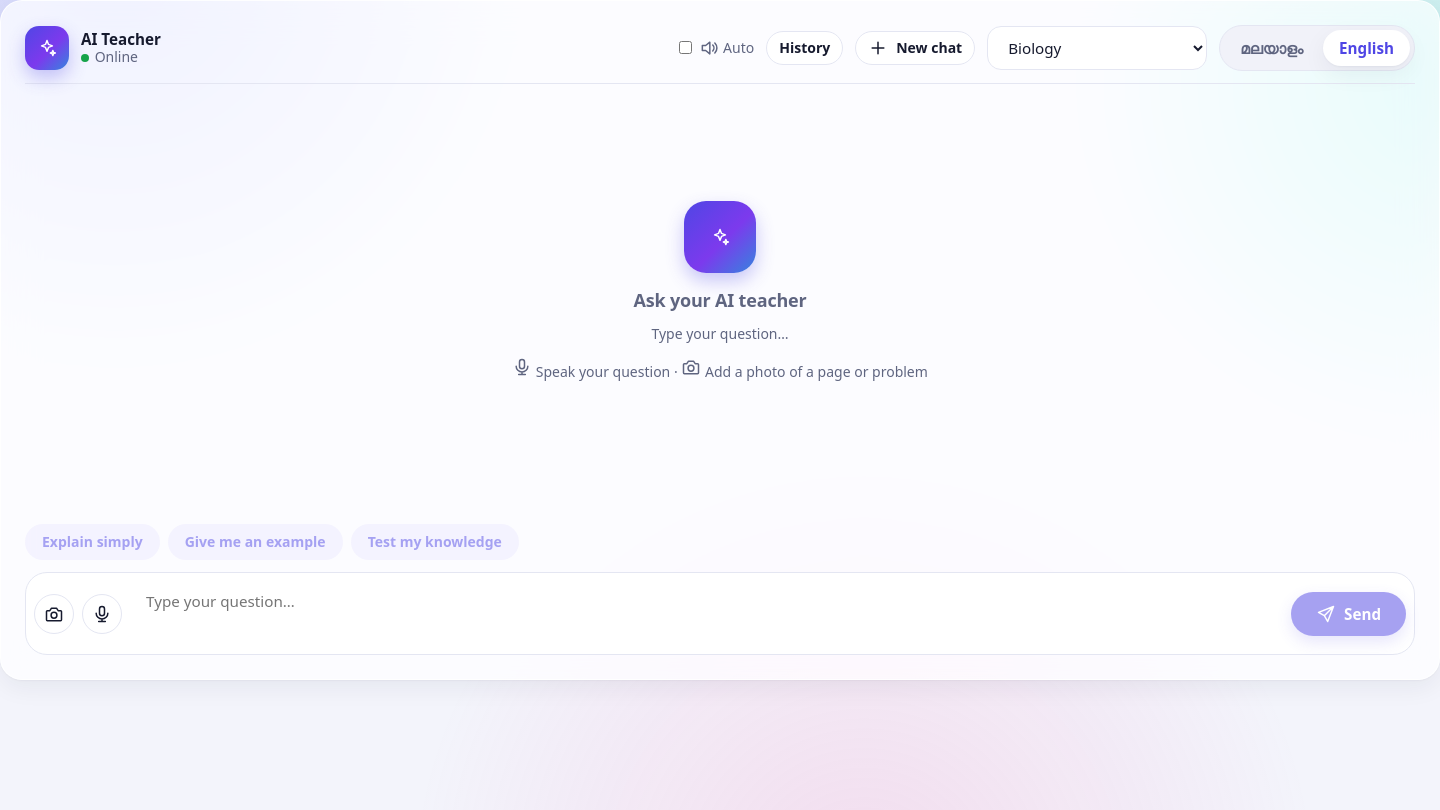
Test: AI teacher streaming, photos and feedback › shows the error sent in the middle of a stream and removes the empty answer
This screenshot has width=1440, height=810.
Step 1. Type "Hi" into the text box labelled "Type your question…" → [707, 614], box [130, 581, 1283, 646]
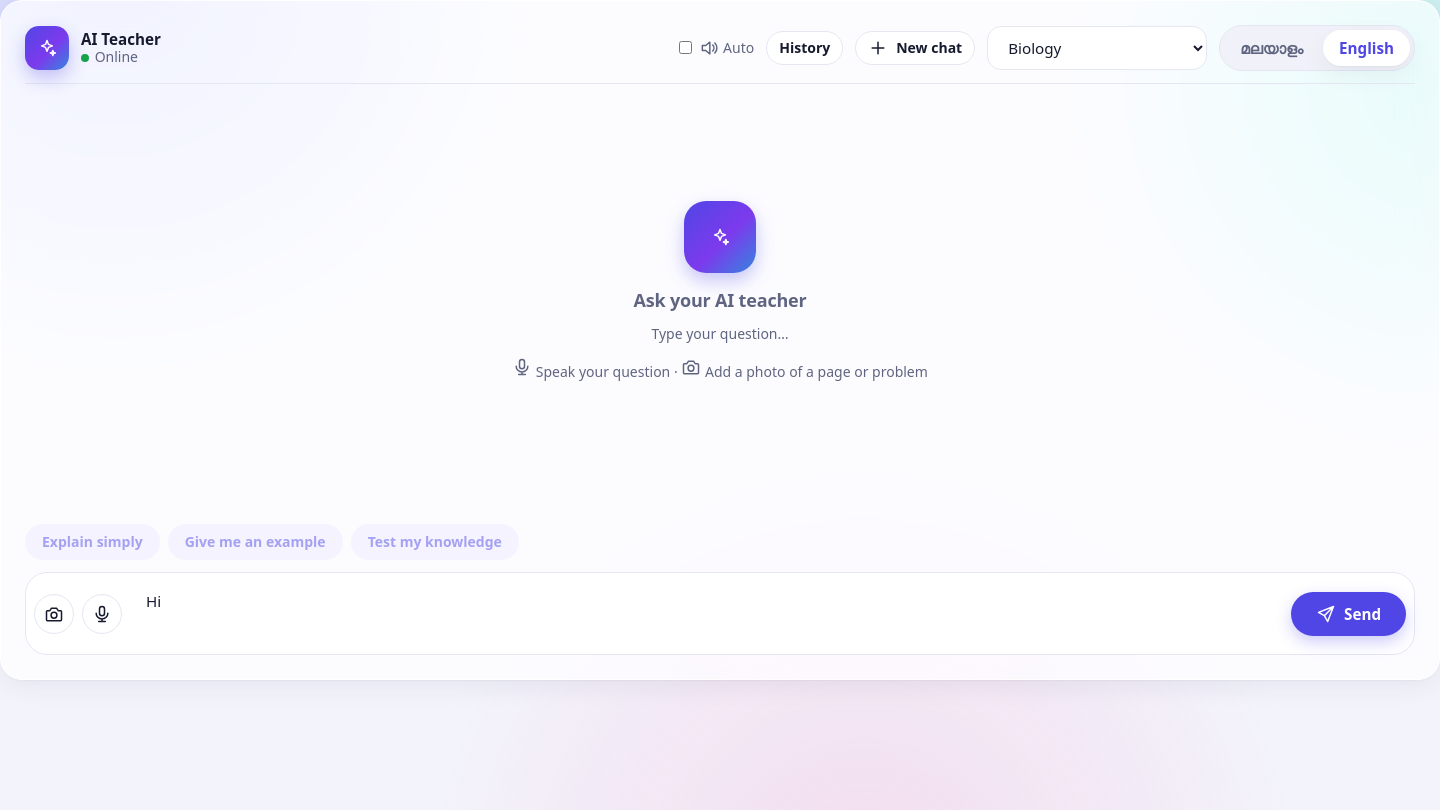
Step 2. Click the button "Send" → [1349, 614], box [1291, 592, 1406, 636]
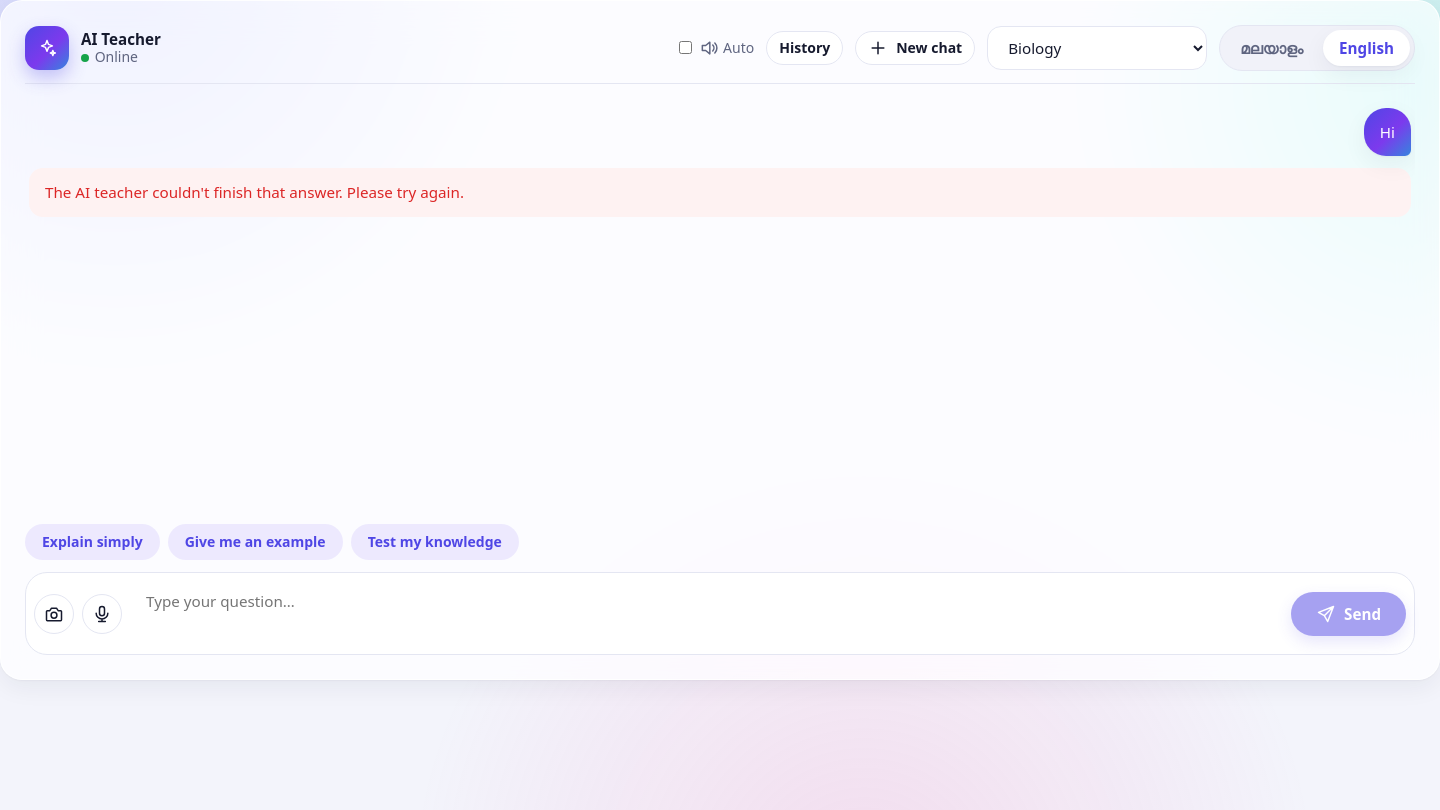
expect the message shows "couldn't finish that answer": met, box [45, 182, 464, 202]
